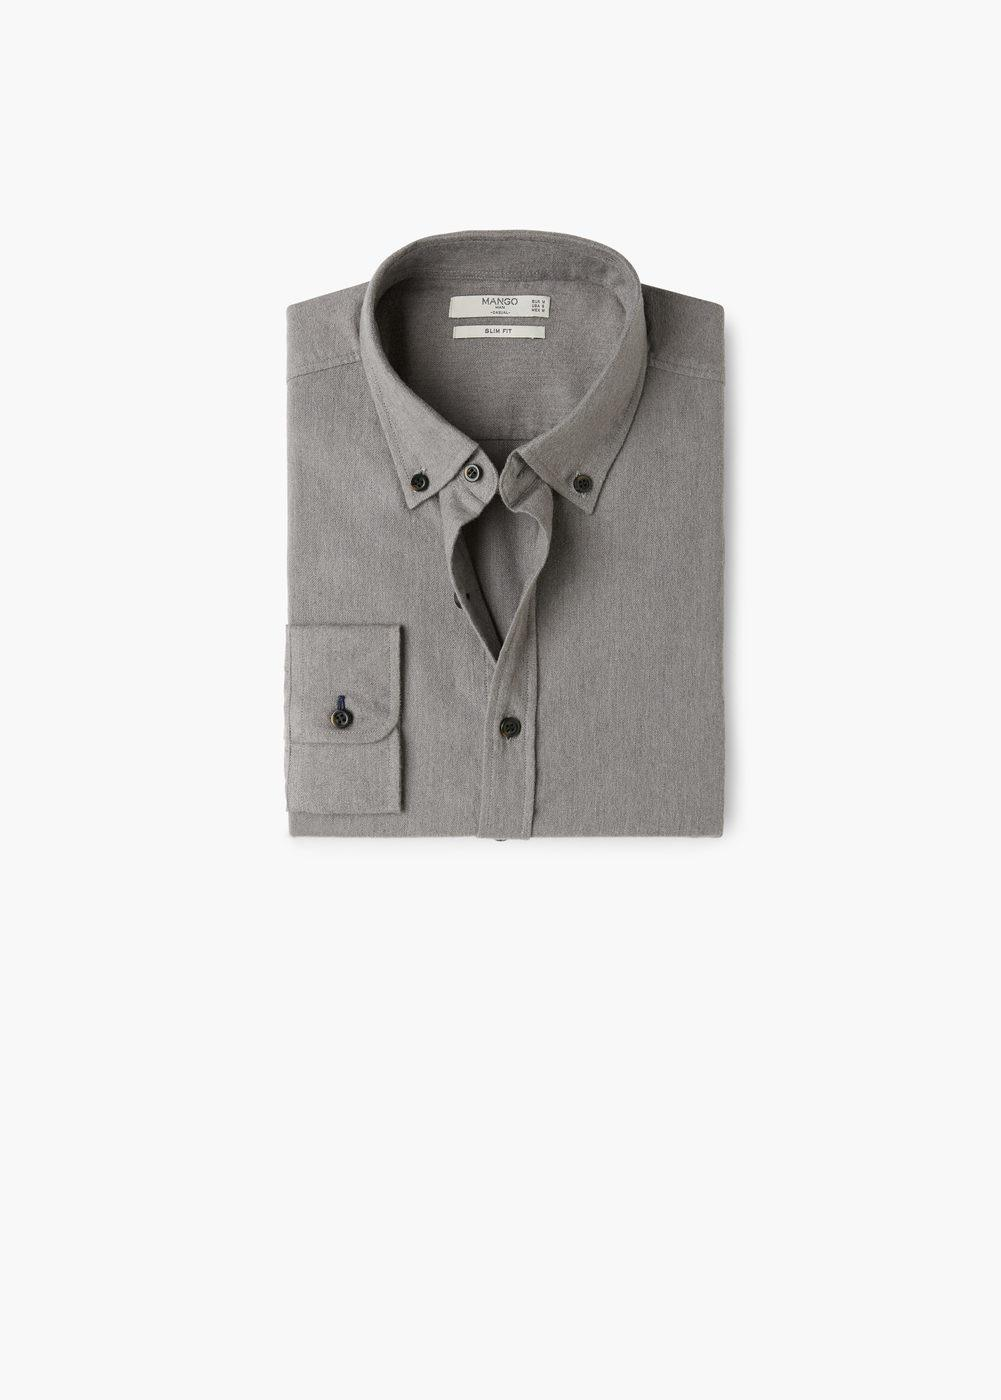teeshirt: (261, 225, 733, 850)
